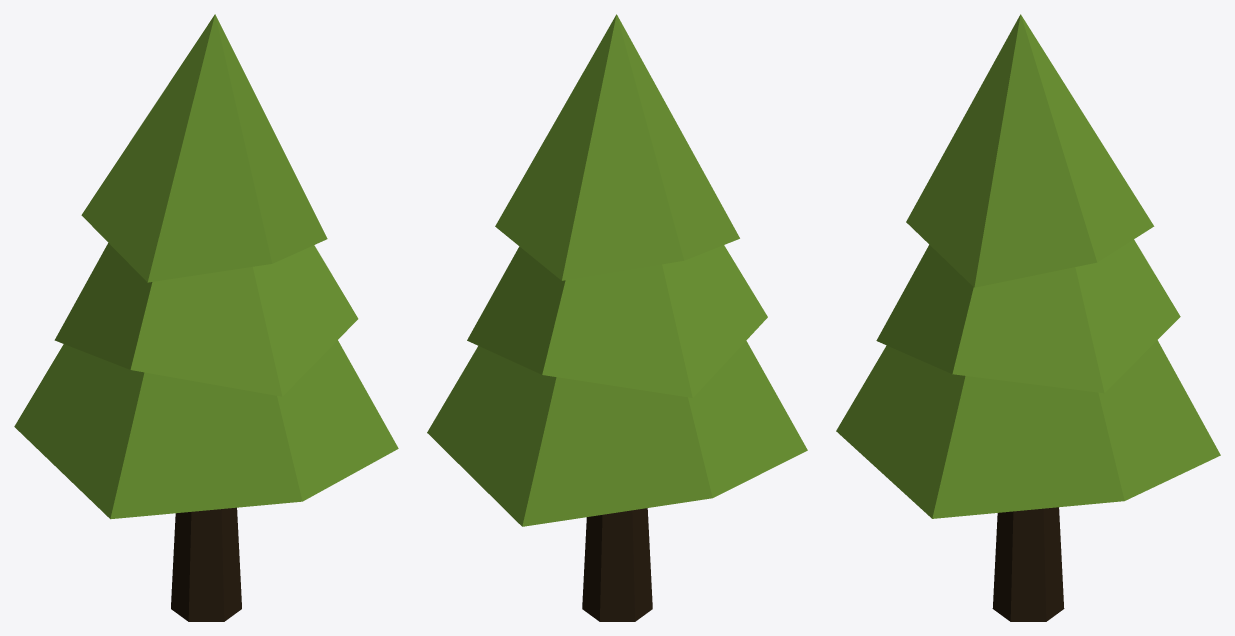
Rendered from Low_Poly_Tree_Triple.obj.
The picture shows the model from 3 angles, left to right: view 1: azimuth 30°, elevation 25°; view 2: azimuth 150°, elevation 25°; view 3: azimuth 270°, elevation 25°; orthographic projection.
Parts seen in each view (by area): view 1: Cone.001_Cone.002; view 2: Cone.001_Cone.002; view 3: Cone.001_Cone.002.
Part boxes in pixels (left/top/right/bottom): Cone.001_Cone.002: left=14, top=14, right=398, bottom=621; Cone.001_Cone.002: left=427, top=14, right=807, bottom=621; Cone.001_Cone.002: left=836, top=14, right=1220, bottom=621.
Bounding box in the file's own units: 2.3 × 4.55 × 2.66.
